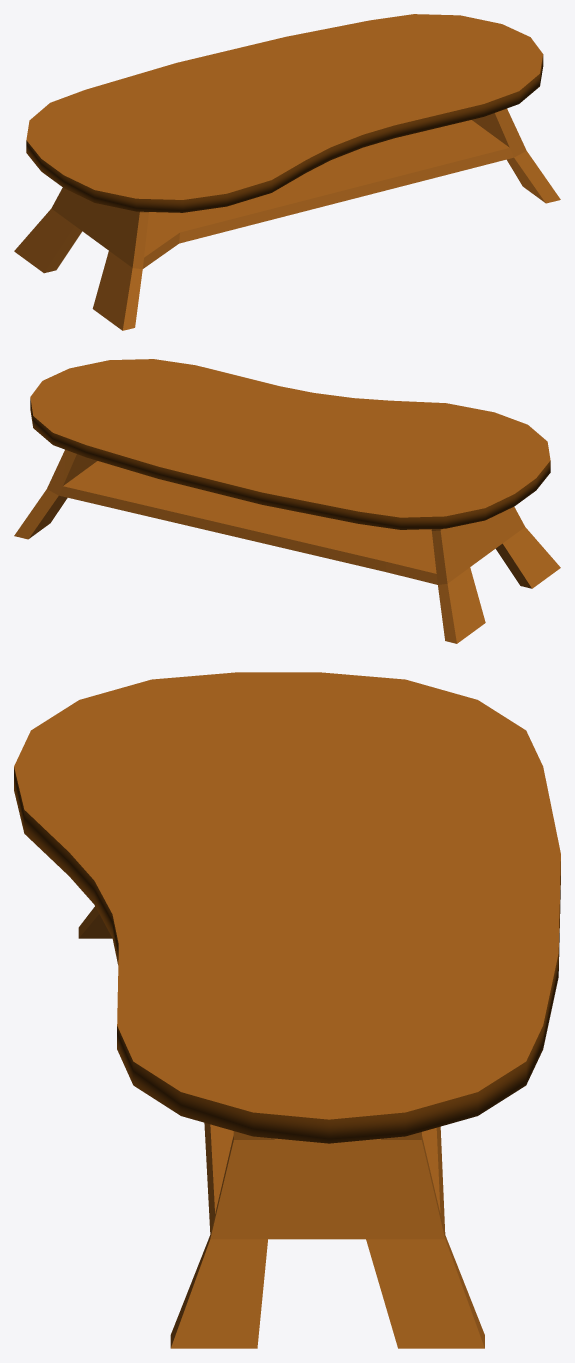
Rendered from tableMK2.fbx.
3 views of the same model, one above another, from view 1: azimuth 30°, elevation 25°; view 2: azimuth 150°, elevation 25°; view 3: azimuth 270°, elevation 25° (orthographic). The views are drawn at different scales.
Parts seen in each view (by area): view 1: tableMK2; view 2: tableMK2; view 3: tableMK2.
Part boxes in pixels (left/top/right/bottom): tableMK2: left=14, top=14, right=560, bottom=330; tableMK2: left=14, top=359, right=560, bottom=643; tableMK2: left=14, top=672, right=560, bottom=1348.
Bounding box in the file's own units: 2987 × 747 × 1544.
